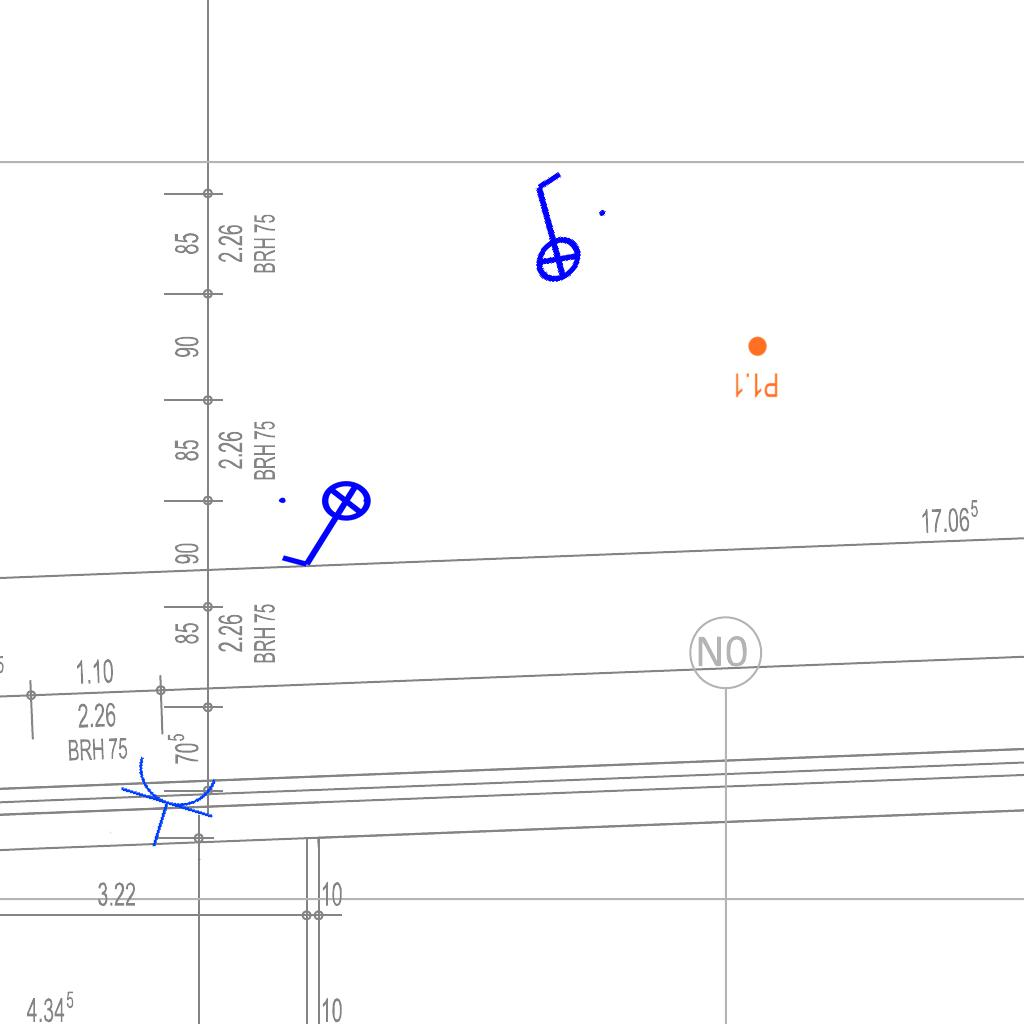Ausschalter_beleuchtet: (477, 155, 625, 303), (273, 479, 385, 575)
Downlight_LED_Einbauleuchten_Flur: (733, 335, 779, 399)
Schukosteckdose_einfach: (106, 749, 228, 862)
